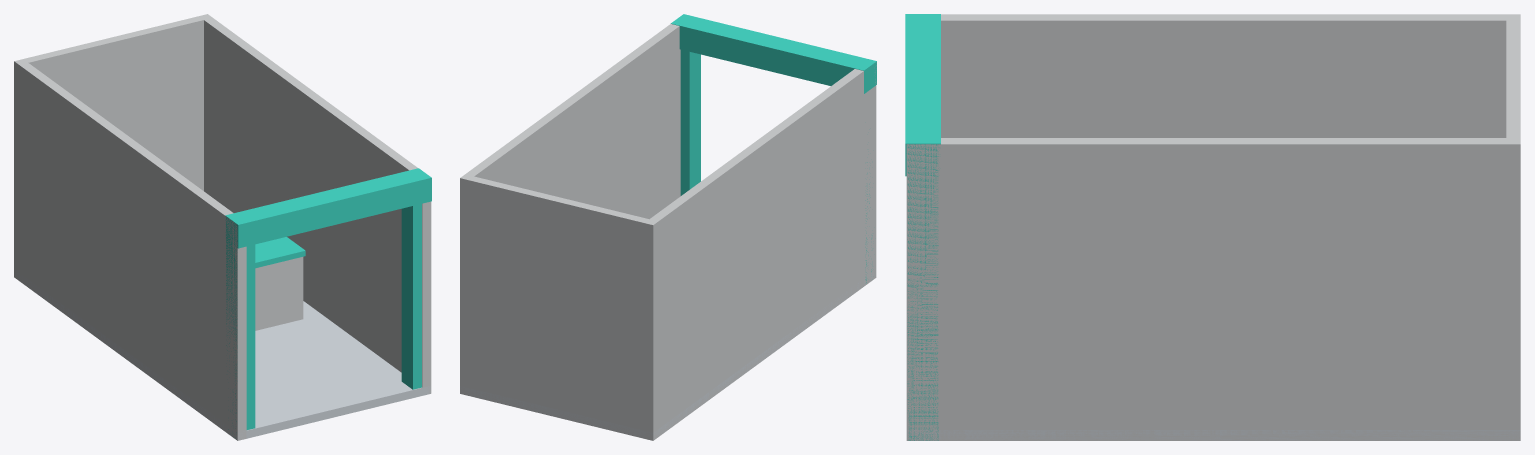
3 renders of one model, left to right at view 1: azimuth 30°, elevation 25°; view 2: azimuth 150°, elevation 25°; view 3: azimuth 270°, elevation 25°, orthographic. The views are drawn at different scales.
Parts seen in each view (by area): view 1: Exhibition Booth Concept; view 2: Exhibition Booth Concept; view 3: Exhibition Booth Concept.
Part boxes in pixels (left/top/right/bottom): Exhibition Booth Concept: left=14, top=14, right=431, bottom=440; Exhibition Booth Concept: left=460, top=14, right=876, bottom=440; Exhibition Booth Concept: left=905, top=14, right=1520, bottom=440.
Bounding box in the file's own units: 3 × 3.2 × 6.02.
